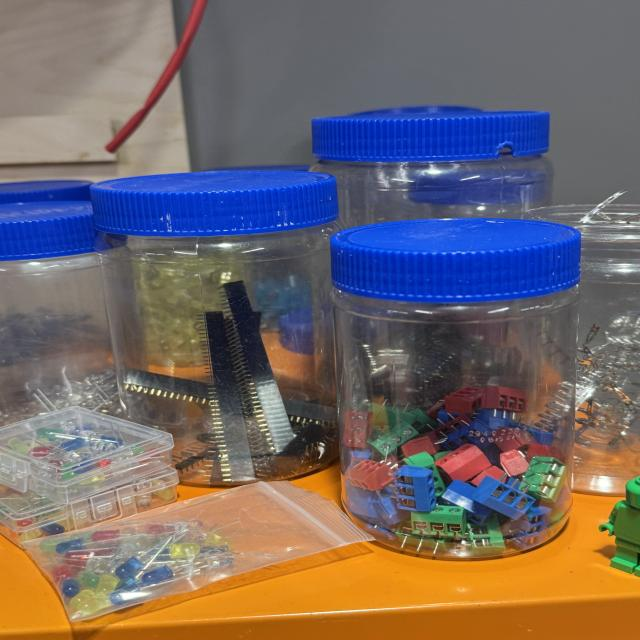Green Mini Figure: (598, 476, 640, 576)
